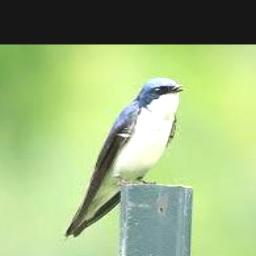Swallow: (64, 78, 186, 238)
